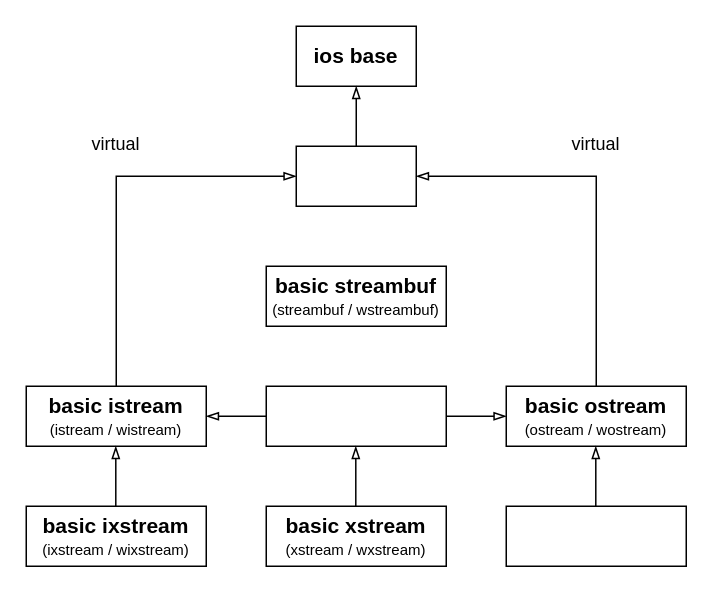
The diagram is 713 pixels wide and 593 high, and some of its shapes have lost their labels. Each missing label, with the box of its shape:
basic ios (ios / wios): (295, 145, 416, 206)
basic iostream (iostream / wio stream): (265, 385, 446, 446)
basic oxstream (oxstream / wox stream): (505, 505, 686, 566)
